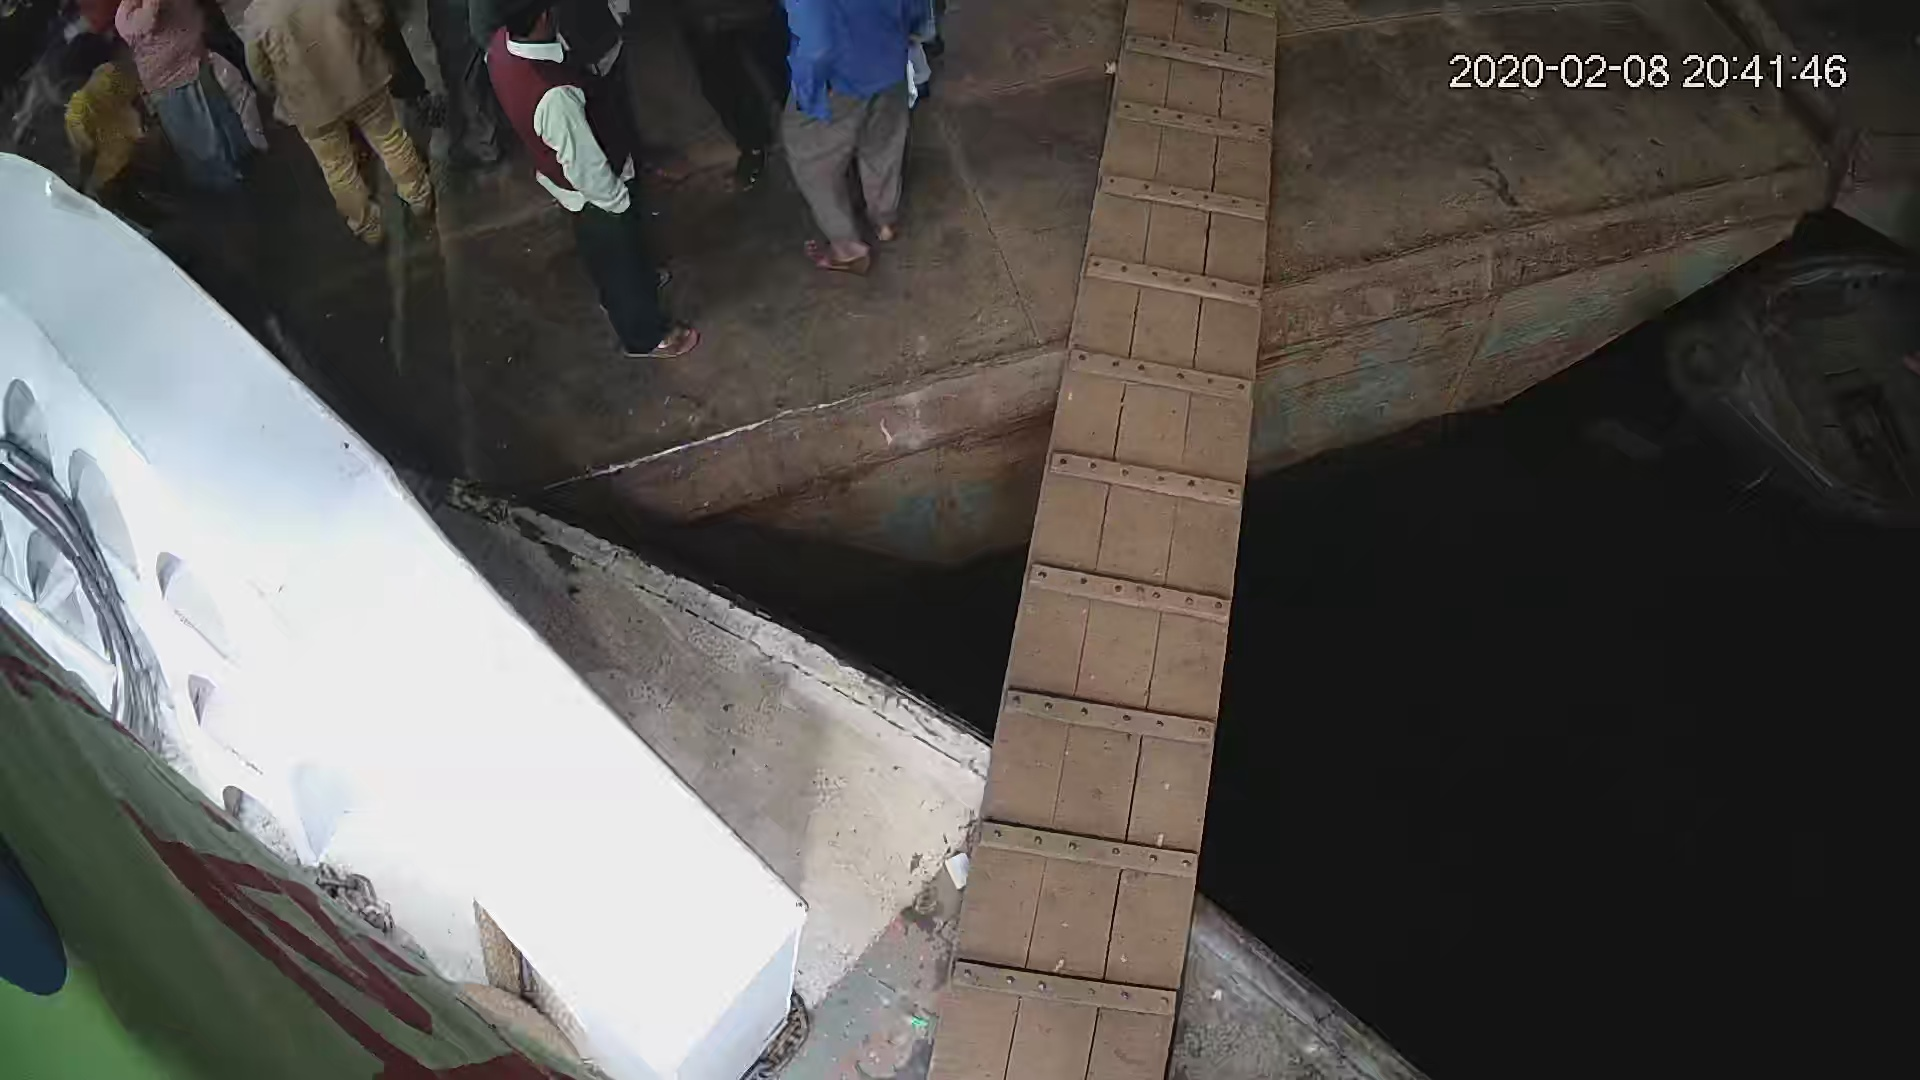person: (483, 7, 706, 365), (244, 11, 444, 257), (774, 1, 929, 280)
